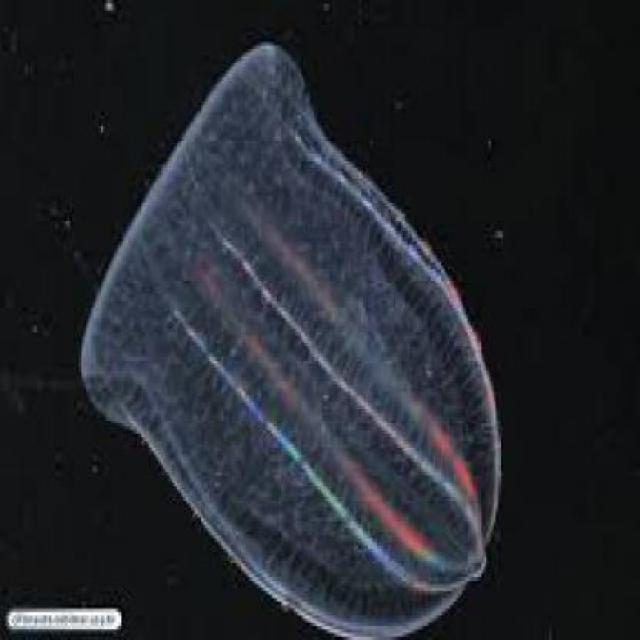Jellyfish: (69, 34, 503, 634)
